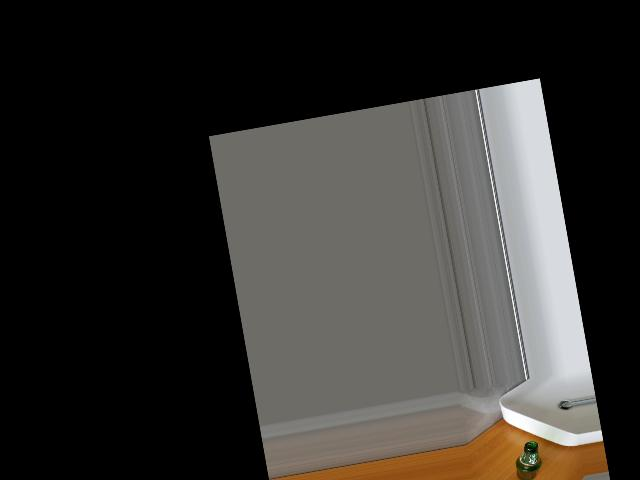beer: (512, 440, 544, 480)
